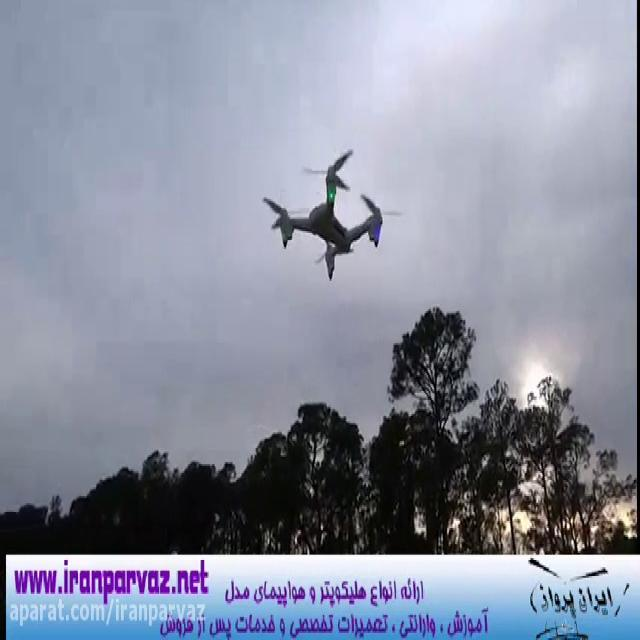drone: (257, 142, 405, 283)
